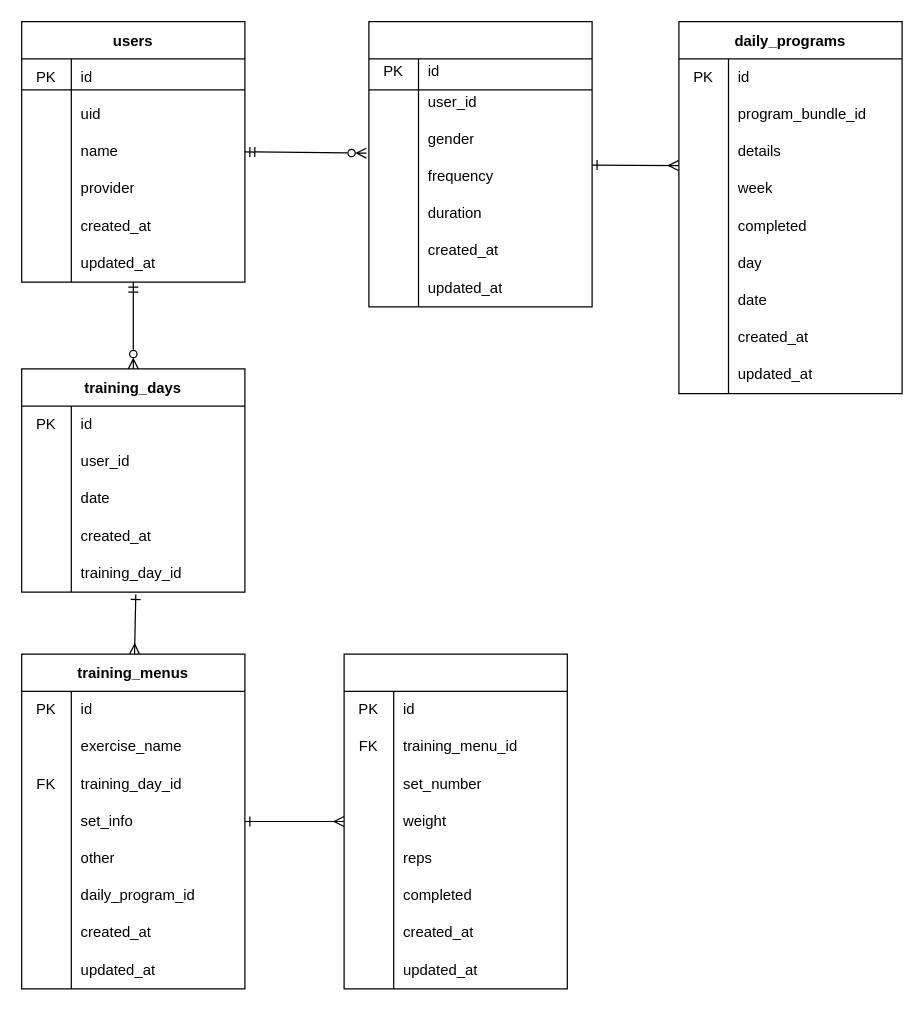
Image size: 924x1011. Some labels were removed from this diagram. The shapes that lost their labels are listed below. From the top down, each one's box as (x1, y1, x2, y2) in pixels, then its label:
(368, 20, 592, 307): program_bundles
(343, 653, 567, 989): training_sets
